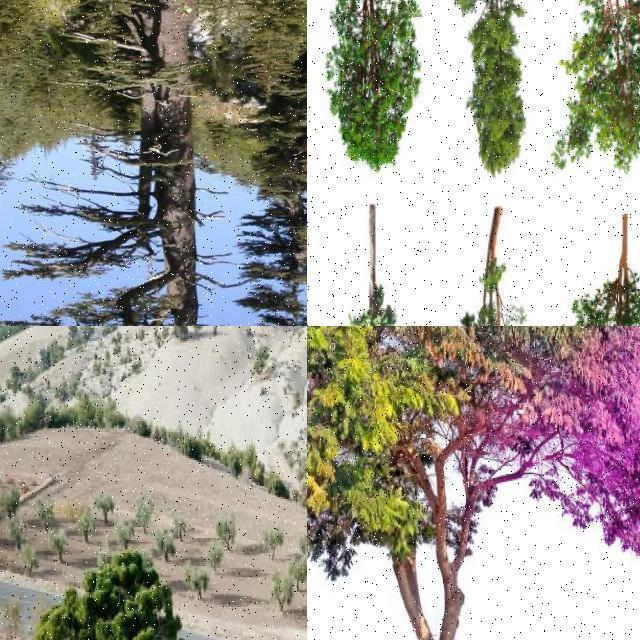tree: (307, 326, 640, 640), (10, 114, 286, 326), (12, 535, 223, 640), (323, 1, 421, 180), (554, 0, 640, 184), (456, 1, 528, 176), (439, 206, 536, 326), (328, 206, 419, 326), (558, 212, 640, 326), (307, 202, 381, 326), (254, 154, 306, 326), (307, 0, 349, 170), (240, 0, 308, 104), (180, 0, 240, 50), (0, 154, 28, 193), (133, 496, 155, 536)
